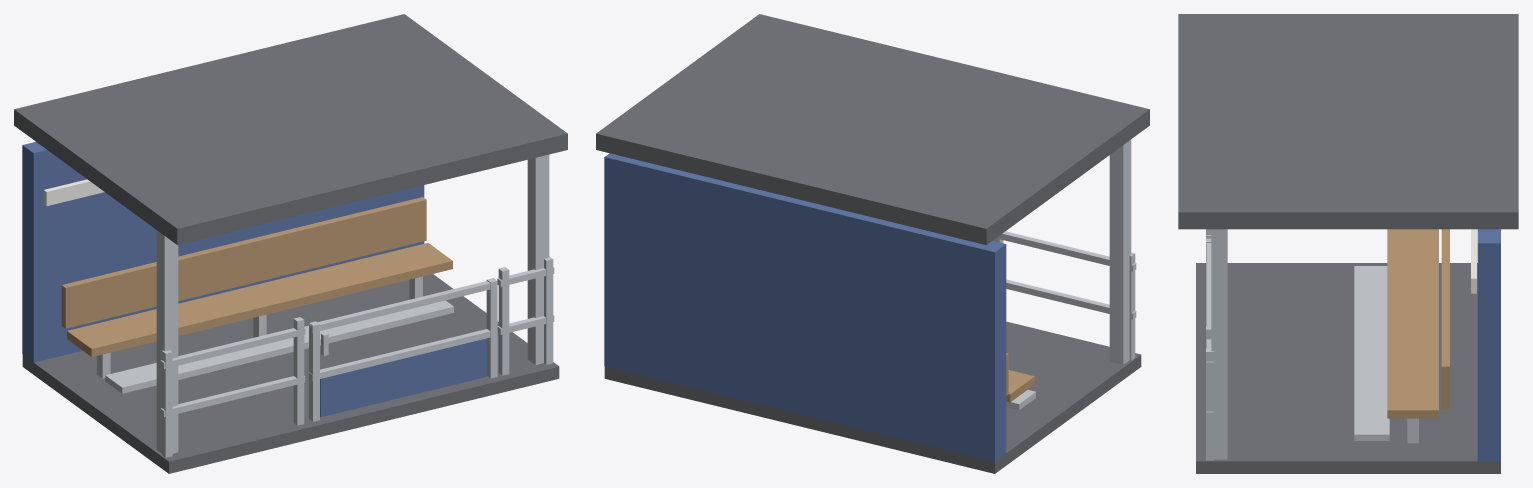
The model's file is baseball-park-and-batting-cages-dugout-unit-1026e8c5__33755.glb.
The picture shows the model from 3 angles, left to right: view 1: azimuth 30°, elevation 25°; view 2: azimuth 150°, elevation 25°; view 3: azimuth 270°, elevation 25°; orthographic projection. The views are drawn at different scales.
Parts seen in each view (by area): view 1: dugout-unit, gate/navy, gate/steel; view 2: dugout-unit; view 3: dugout-unit, gate/steel.
Boxes of the visible parts, x1,y1,x2,y2 form: dugout-unit: [14, 14, 567, 473]; gate/navy: [320, 338, 486, 417]; gate/steel: [309, 278, 497, 421]; dugout-unit: [596, 14, 1149, 473]; dugout-unit: [1178, 14, 1518, 473]; gate/steel: [1206, 238, 1211, 326].
Bounding box in the file's own units: 4 × 2.46 × 2.9.
